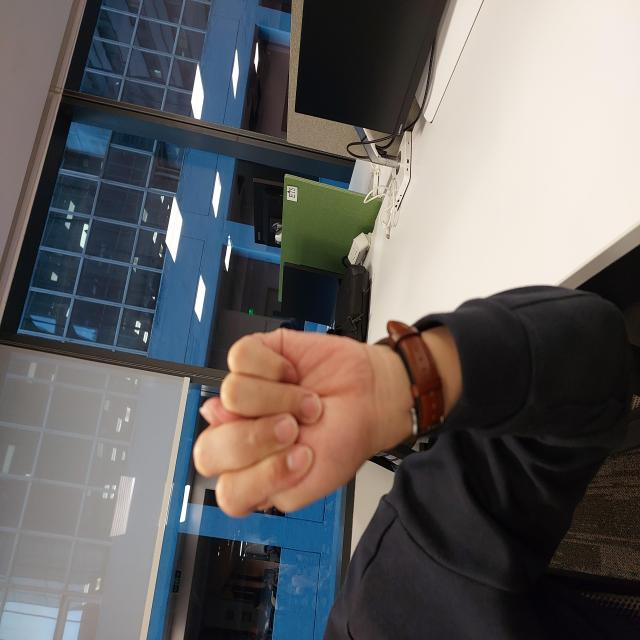N: (126, 193, 312, 365)
